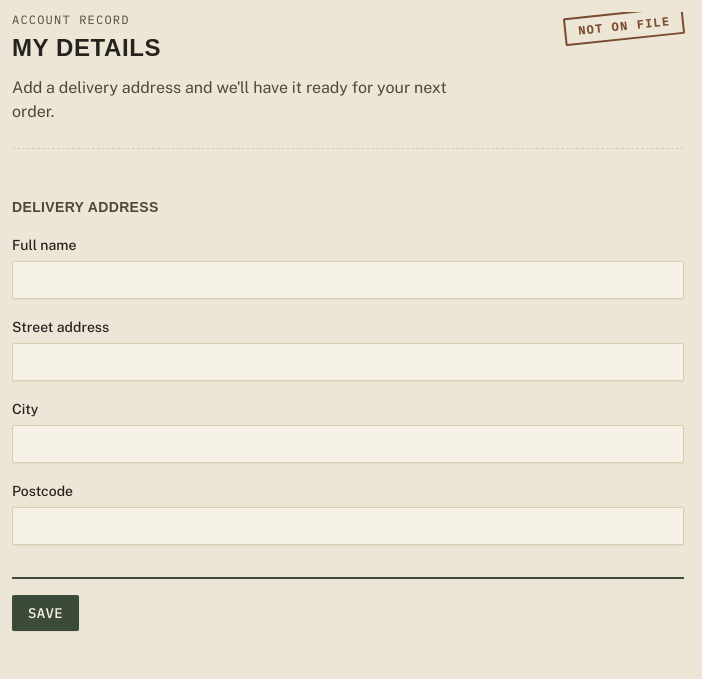
Test: MyDetailsForm › saves the address and shows a success message
The image size is (702, 679).
Type "Ada Lovelace" into the field labelled "Full name" at x=348, y=280, box [12,261,684,299]
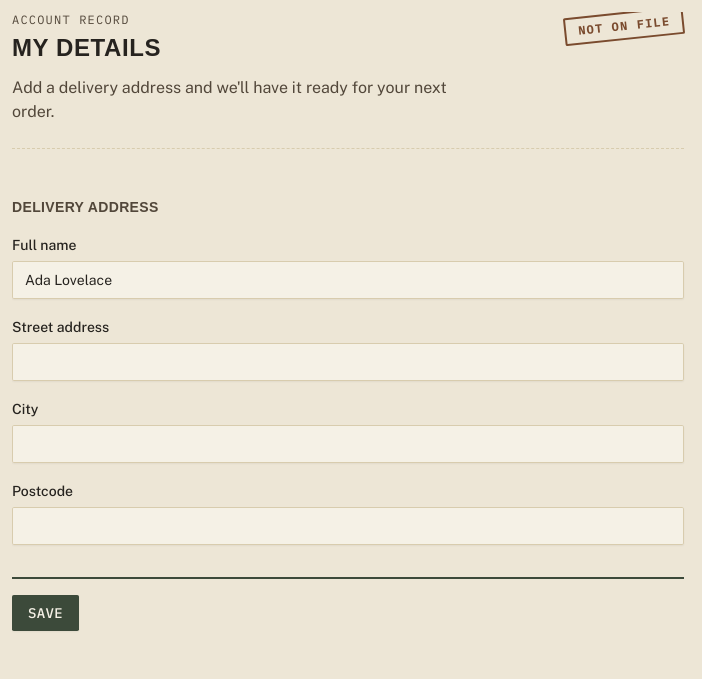
Type "12 Analytical Engine Ave" into the field labelled "Street address" at x=348, y=362, box [12,343,684,381]
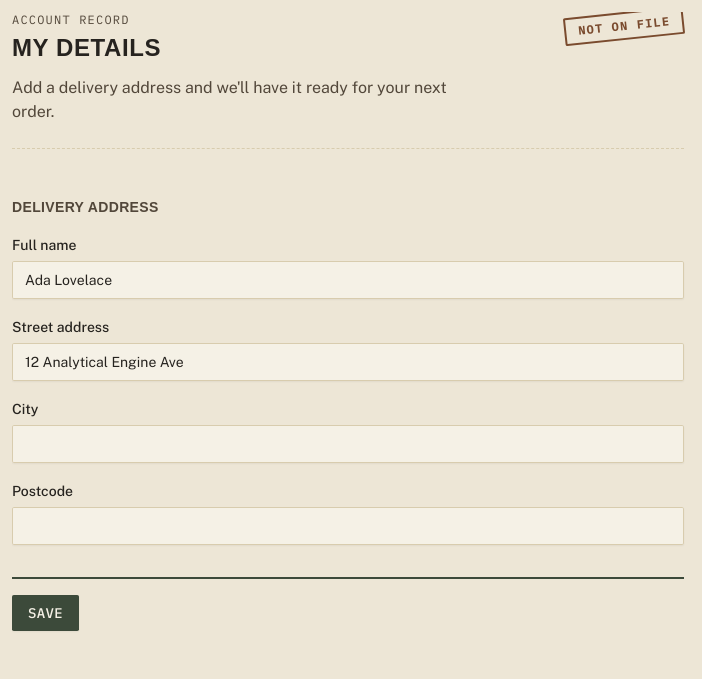
Type "London" into the field labelled "City" at x=348, y=444, box [12,425,684,463]
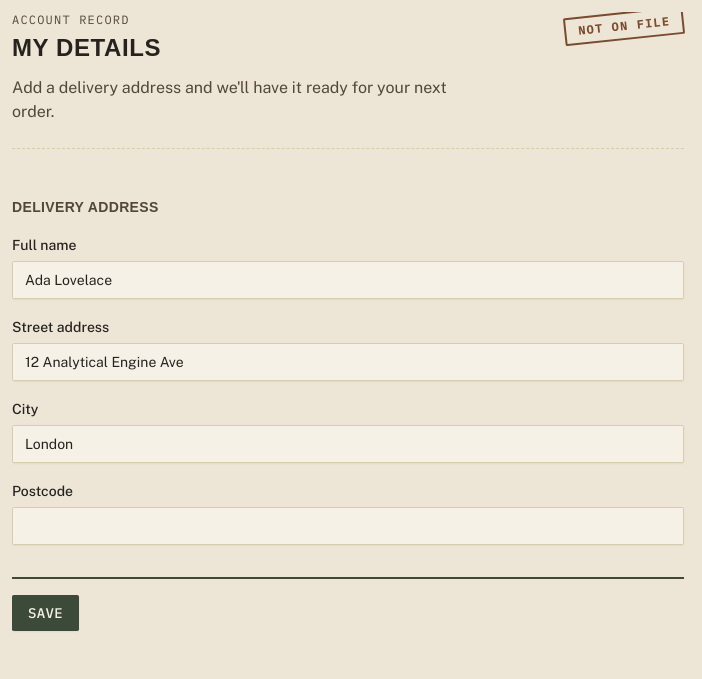
Type "SW1A 2AA" into the field labelled "Postcode" at x=348, y=526, box [12,507,684,545]
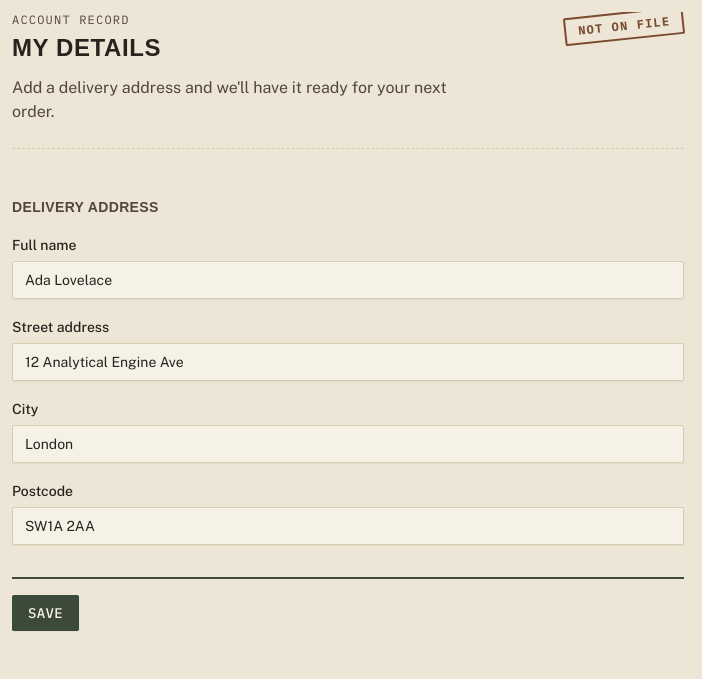
Click the button "Save" at x=46, y=613, box [12,595,79,631]
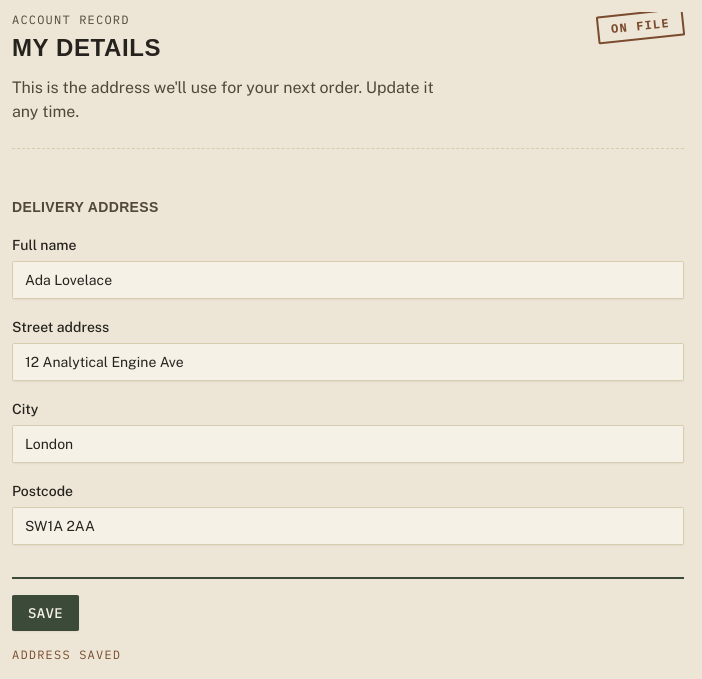
Expected: the text "Address saved" is shown, [12,647,121,662]
